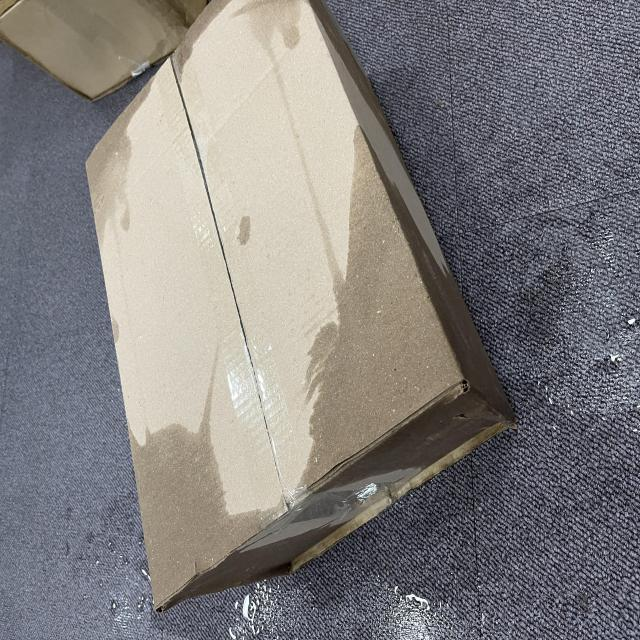wet: (25, 106, 480, 640)
